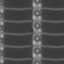dust: (29, 28, 33, 32)
